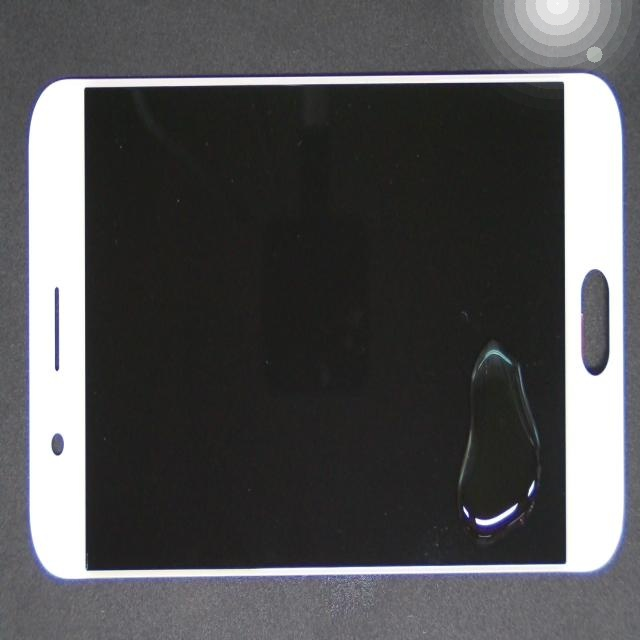oil: (269, 289, 640, 640)
